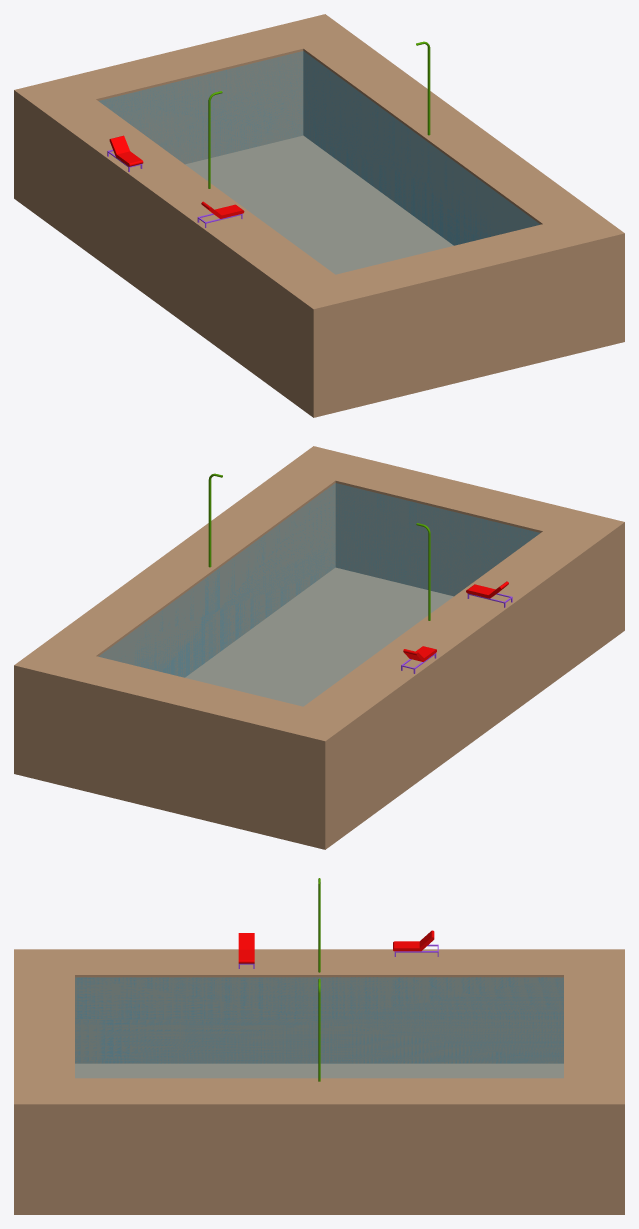
The model's file is World.gltf.
The picture shows the model from 3 angles, top to bottom: view 1: azimuth 30°, elevation 25°; view 2: azimuth 150°, elevation 25°; view 3: azimuth 270°, elevation 25°; orthographic projection.
Visible parts, largest first — view 1: Ground, Water; view 2: Ground, Water; view 3: Ground, Water, Bed (×2).
Boxes of the visible parts, box(x1,y1,x2,y2) form: Ground: box(14, 14, 624, 417); Water: box(99, 51, 539, 273); Ground: box(14, 446, 624, 849); Water: box(99, 483, 539, 705); Ground: box(14, 949, 624, 1214); Water: box(75, 977, 563, 1077); Bed (×2): box(238, 930, 434, 963).
Size of the model in its own units: 15 by 9.35 by 25.
